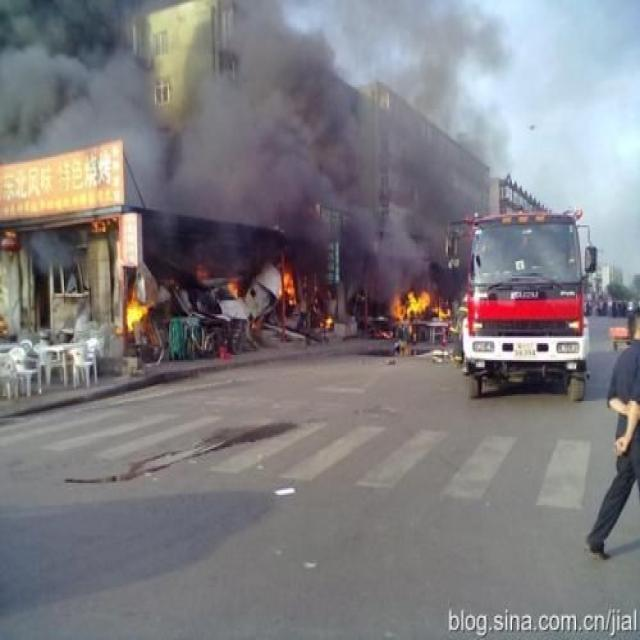Fire: (392, 290, 459, 336), (125, 283, 151, 333), (282, 273, 300, 307)
Smoke: (2, 2, 530, 292)
